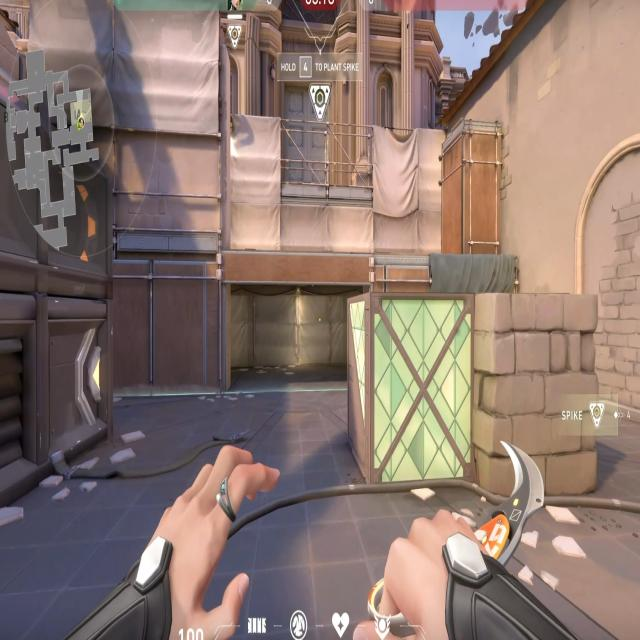A_Heaven_Box: (444, 118, 506, 256)
A_Heaven_Wall: (14, 0, 226, 262)
A_Hell: (210, 235, 378, 399)
A_Site_Box: (343, 289, 605, 514)
